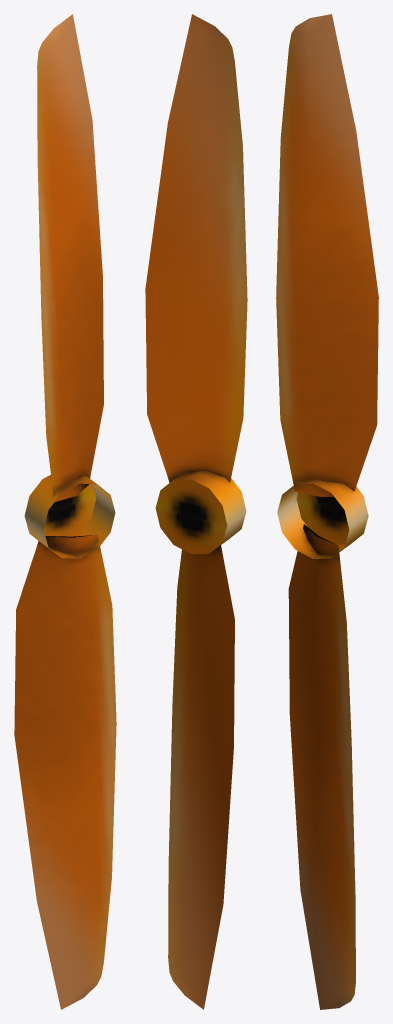
Rendered from propeller.dae.
3 renders of one model, left to right at view 1: azimuth 30°, elevation 25°; view 2: azimuth 150°, elevation 25°; view 3: azimuth 330°, elevation 25°, orthographic.
Visible parts, largest first — view 1: Object; view 2: Object; view 3: Object.
Boxes of the visible parts, <box> form: Object: <box>14,14,116,1009</box>; Object: <box>145,14,247,1009</box>; Object: <box>276,14,378,1009</box>.
Size of the model in its own units: 0.0277 by 0.0113 by 0.2968.
Materials: 1 (1 with a texture image).
